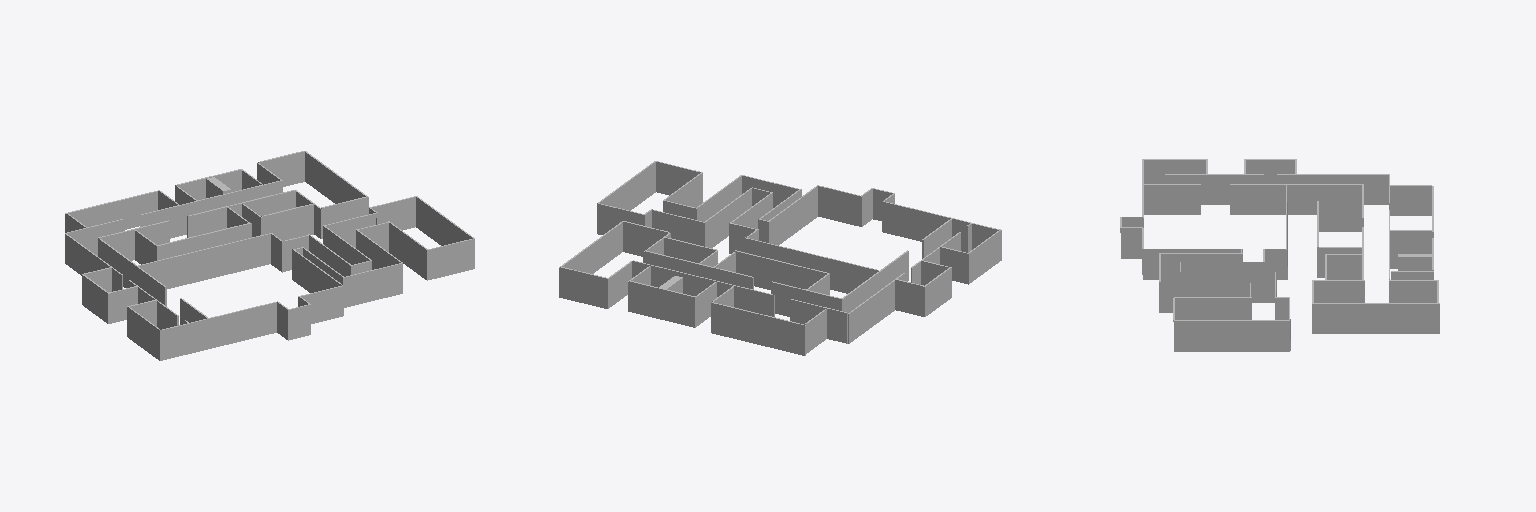
File: map.obj
3 renders of one model, left to right at view 1: azimuth 30°, elevation 25°; view 2: azimuth 150°, elevation 25°; view 3: azimuth 270°, elevation 25°, orthographic.
Parts seen in each view (by area): view 1: Box018, Box019, Box009, Box031, Box011, Box014, Box046, Box013, Box023, Box012, Box044, Box037 (+20 smaller); view 2: Box014, Box019, Box018, Box009, Box015, Box013, Box027, Box006, Box046, Box016, Box020, Box011 (+23 smaller); view 3: Box046, Box037, Box044, Box038, Box045, Box006, Box034, Box007, Box033, Box052, Box055, Box047 (+11 smaller).
Part boxes in pixels (left/top/right/bottom): Box018: left=138, top=233, right=270, bottom=288; Box019: left=161, top=301, right=277, bottom=360; Box009: left=140, top=180, right=281, bottom=238; Box031: left=343, top=263, right=401, bottom=307; Box011: left=187, top=190, right=295, bottom=237; Box014: left=65, top=191, right=157, bottom=232; Box046: left=305, top=151, right=368, bottom=214; Box013: left=157, top=223, right=251, bottom=260; Box023: left=428, top=239, right=473, bottom=279; Box012: left=261, top=203, right=313, bottom=240; Box044: left=99, top=239, right=166, bottom=306; Box037: left=416, top=196, right=474, bottom=268; Box014: left=711, top=302, right=805, bottom=355; Box019: left=882, top=201, right=999, bottom=252; Box018: left=744, top=237, right=878, bottom=293; Box009: left=632, top=260, right=774, bottom=316; Box015: left=629, top=281, right=695, bottom=327; Box013: left=735, top=250, right=829, bottom=294; Box027: left=768, top=186, right=817, bottom=245; Box006: left=848, top=273, right=905, bottom=343; Box046: left=559, top=221, right=622, bottom=297; Box016: left=560, top=267, right=606, bottom=308; Box020: left=817, top=185, right=862, bottom=226; Box011: left=645, top=251, right=753, bottom=289; Box046: left=1312, top=303, right=1439, bottom=333; Box037: left=1174, top=320, right=1289, bottom=351; Box044: left=1230, top=184, right=1361, bottom=214; Box038: left=1174, top=297, right=1251, bottom=319; Box045: left=1144, top=184, right=1200, bottom=214; Box006: left=1277, top=174, right=1388, bottom=204; Box034: left=1159, top=282, right=1251, bottom=312; Box007: left=1165, top=174, right=1263, bottom=204; Box033: left=1181, top=272, right=1276, bottom=302; Box052: left=1390, top=185, right=1431, bottom=215; Box055: left=1319, top=202, right=1361, bottom=231; Box047: left=1314, top=280, right=1364, bottom=302.
Size of the model in its own units: 46.57 by 4.32 by 38.83.